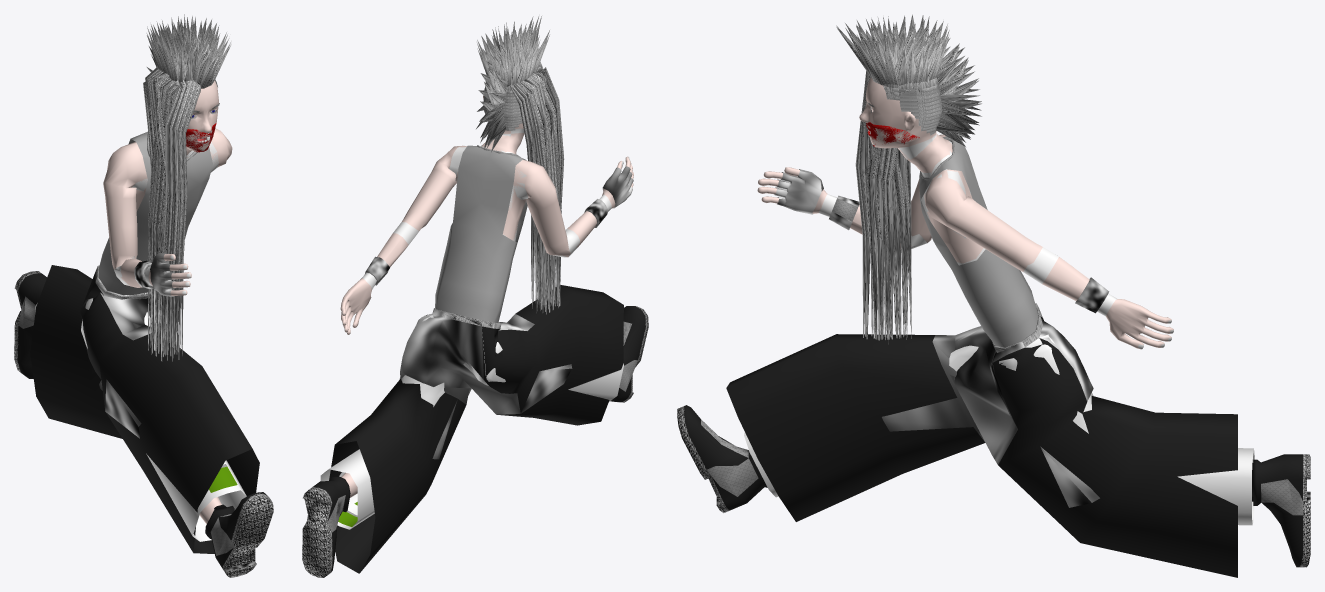
3 renders of one model, left to right at view 1: azimuth 30°, elevation 25°; view 2: azimuth 150°, elevation 25°; view 3: azimuth 270°, elevation 25°, orthographic. The views are drawn at different scales.
Parts seen in each view (by area): view 1: Clothing.Longwinds.0, Hair.Uppercut.Long, Shoes, Arm.R.Upper.0, Shirt.0, Hair.Spikey, Clothing.PatchPants, Clothing.Longwinds.Short, Head.tigerstone.0, Hair_Fanhawk_Long, Weapon Hand R, Hand.R.0 (+5 smaller); view 2: Clothing.Longwinds.0, Shirt.0, Clothing.Longwinds.Short, Hair.Uppercut.Long, Shoes, Clothing.PatchPants, Arm.R.Upper.0, Hair_Fanhawk_Long, Hair.Spikey, Arm.L.Upper.0, Hand.L.0, Torso.Upper.000 (+5 smaller); view 3: Clothing.Longwinds.0, Clothing.Longwinds.Short, Hair.Uppercut.Long, Shoes, Shirt.0, Arm.L.Upper.0, Clothing.PatchPants, Hair_Fanhawk_Long, Hair.Spikey, Head.tigerstone.0, Hand.L.0, Hair.Flattop (+5 smaller).
Boxes of the visible parts, box(x1,y1,x2,y2) form: Clothing.Longwinds.0: box(30, 265, 259, 553); Hair.Uppercut.Long: box(143, 66, 201, 361); Shoes: box(14, 271, 273, 577); Arm.R.Upper.0: box(103, 141, 147, 285); Shirt.0: box(98, 131, 212, 294); Hair.Spikey: box(146, 14, 231, 86); Clothing.PatchPants: box(35, 265, 246, 541); Clothing.Longwinds.Short: box(95, 266, 178, 438); Head.tigerstone.0: box(186, 80, 218, 151); Hair_Fanhawk_Long: box(147, 21, 221, 119); Weapon Hand R: box(150, 253, 176, 296); Hand.R.0: box(145, 254, 191, 295); Clothing.Longwinds.0: box(329, 285, 623, 573); Shirt.0: box(435, 145, 527, 322); Clothing.Longwinds.Short: box(400, 308, 572, 459); Hair.Uppercut.Long: box(507, 62, 564, 314); Shoes: box(302, 306, 648, 577); Clothing.PatchPants: box(320, 308, 623, 529); Arm.R.Upper.0: box(509, 160, 579, 257); Hair_Fanhawk_Long: box(476, 16, 541, 152); Hair.Spikey: box(477, 21, 549, 85); Arm.L.Upper.0: box(393, 145, 466, 246); Hand.L.0: box(340, 273, 376, 334); Torso.Upper.000: box(449, 145, 528, 240); Clothing.Longwinds.0: box(726, 334, 1237, 577); Clothing.Longwinds.Short: box(882, 316, 1099, 507); Hair.Uppercut.Long: box(855, 71, 911, 344); Shoes: box(677, 405, 1310, 567); Shirt.0: box(919, 136, 1038, 347); Arm.L.Upper.0: box(924, 169, 1058, 283); Clothing.PatchPants: box(744, 303, 1254, 525); Hair_Fanhawk_Long: box(836, 22, 981, 146); Hair.Spikey: box(850, 14, 949, 85); Head.tigerstone.0: box(859, 77, 936, 159); Hand.L.0: box(1097, 293, 1173, 349); Hair.Flattop: box(882, 70, 942, 135).
Size of the model in its own units: 5.05 by 15.56 by 16.56.
